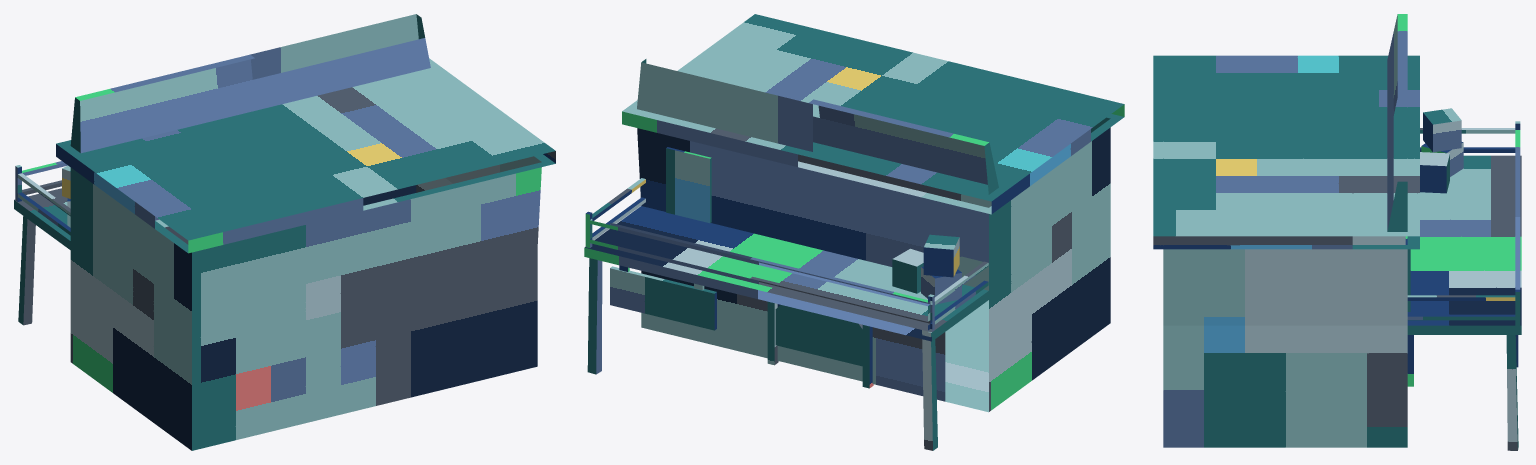
The model's file is general_good.obj.
The picture shows the model from 3 angles, left to right: view 1: azimuth 30°, elevation 25°; view 2: azimuth 150°, elevation 25°; view 3: azimuth 270°, elevation 25°; orthographic projection.
Visible parts, largest first — view 1: building, railing, beams; view 2: building, railing, sign_panel, door, crates, beams, upstairs_door, doorframe; view 3: building, railing, crates, beams.
Boxes of the visible parts, <box> form: building: <box>14,14,555,450</box>; railing: <box>15,161,70,235</box>; beams: <box>18,216,35,325</box>; building: <box>584,14,1124,412</box>; railing: <box>585,178,988,332</box>; sign_panel: <box>610,266,716,330</box>; door: <box>775,305,862,366</box>; crates: <box>892,234,961,304</box>; beams: <box>587,258,937,450</box>; upstairs_door: <box>666,147,711,223</box>; doorframe: <box>767,301,873,388</box>; building: <box>1153,14,1521,447</box>; railing: <box>1407,121,1520,325</box>; crates: <box>1420,108,1463,193</box>; beams: <box>1506,335,1518,450</box>.
Bounding box in the file's own units: 2.62 × 1.83 × 2.26.
